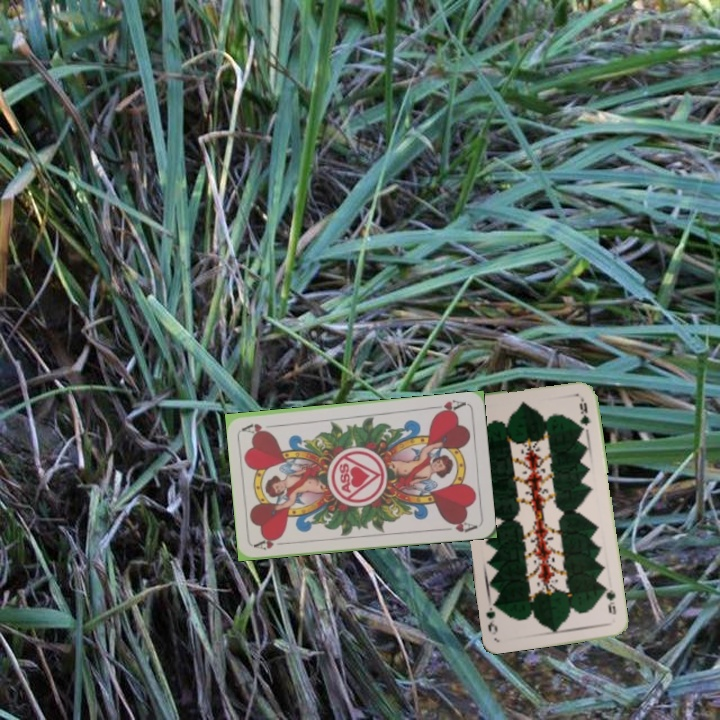G9: (599, 582, 619, 617)
HA: (428, 396, 469, 417), (251, 533, 292, 553)
